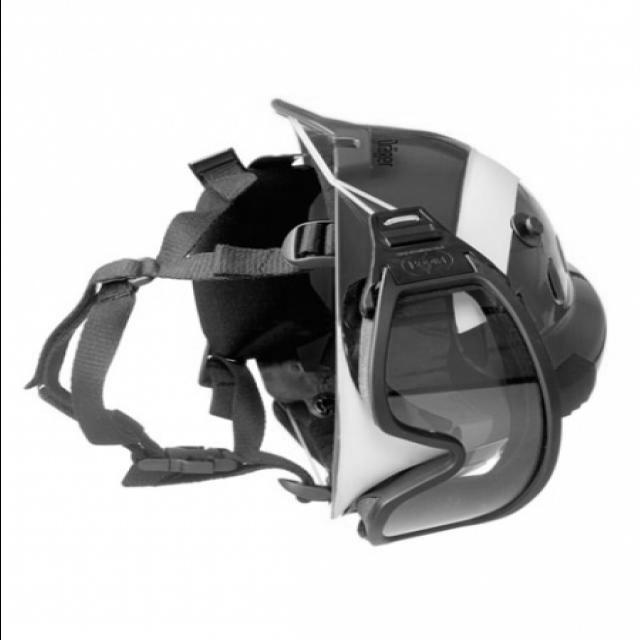construction helmet: (27, 102, 603, 548)
